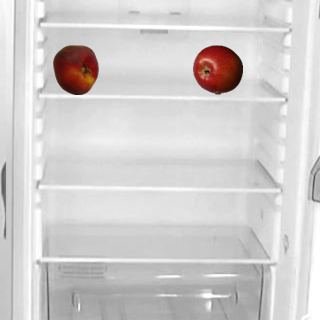Apple Braeburn: (192, 44, 242, 94)
Nectarine Flat: (50, 44, 100, 94)
